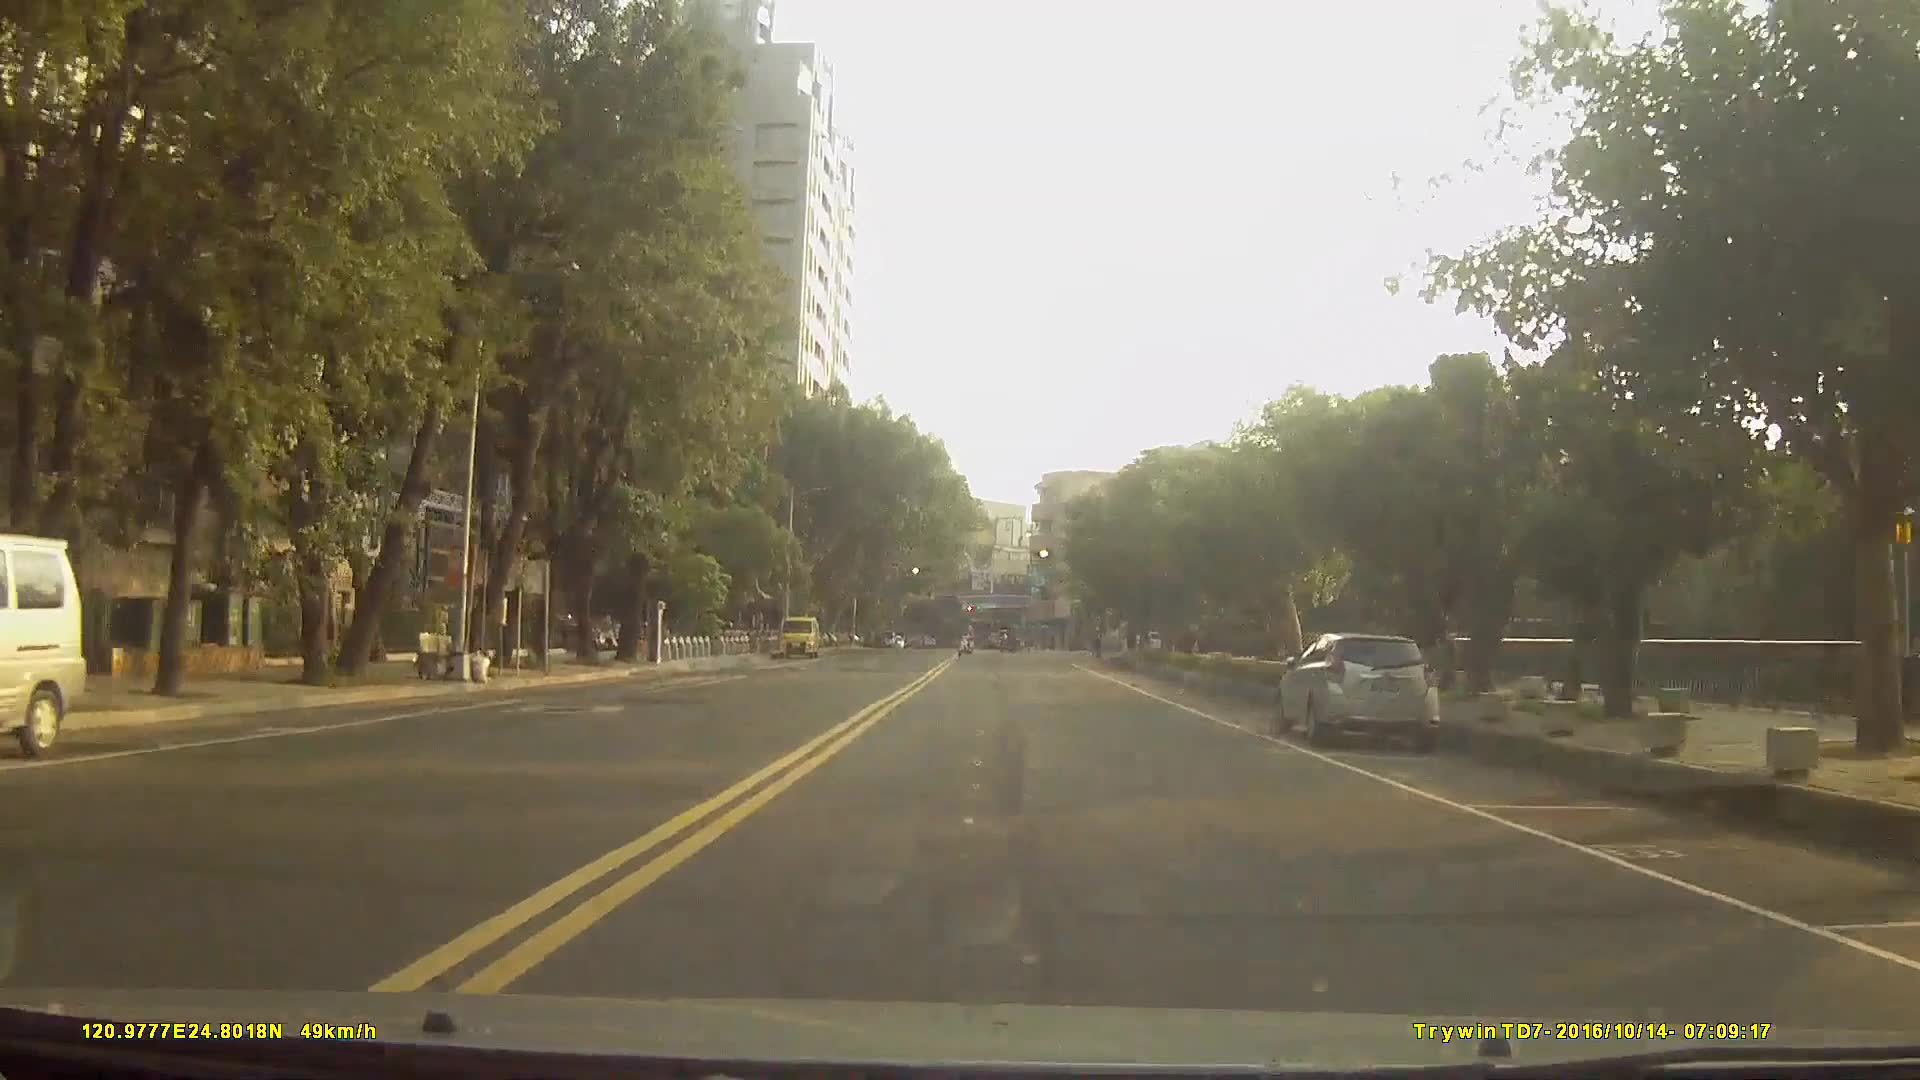vehicle: (1266, 636, 1443, 760), (0, 529, 88, 764), (996, 632, 1023, 657)
